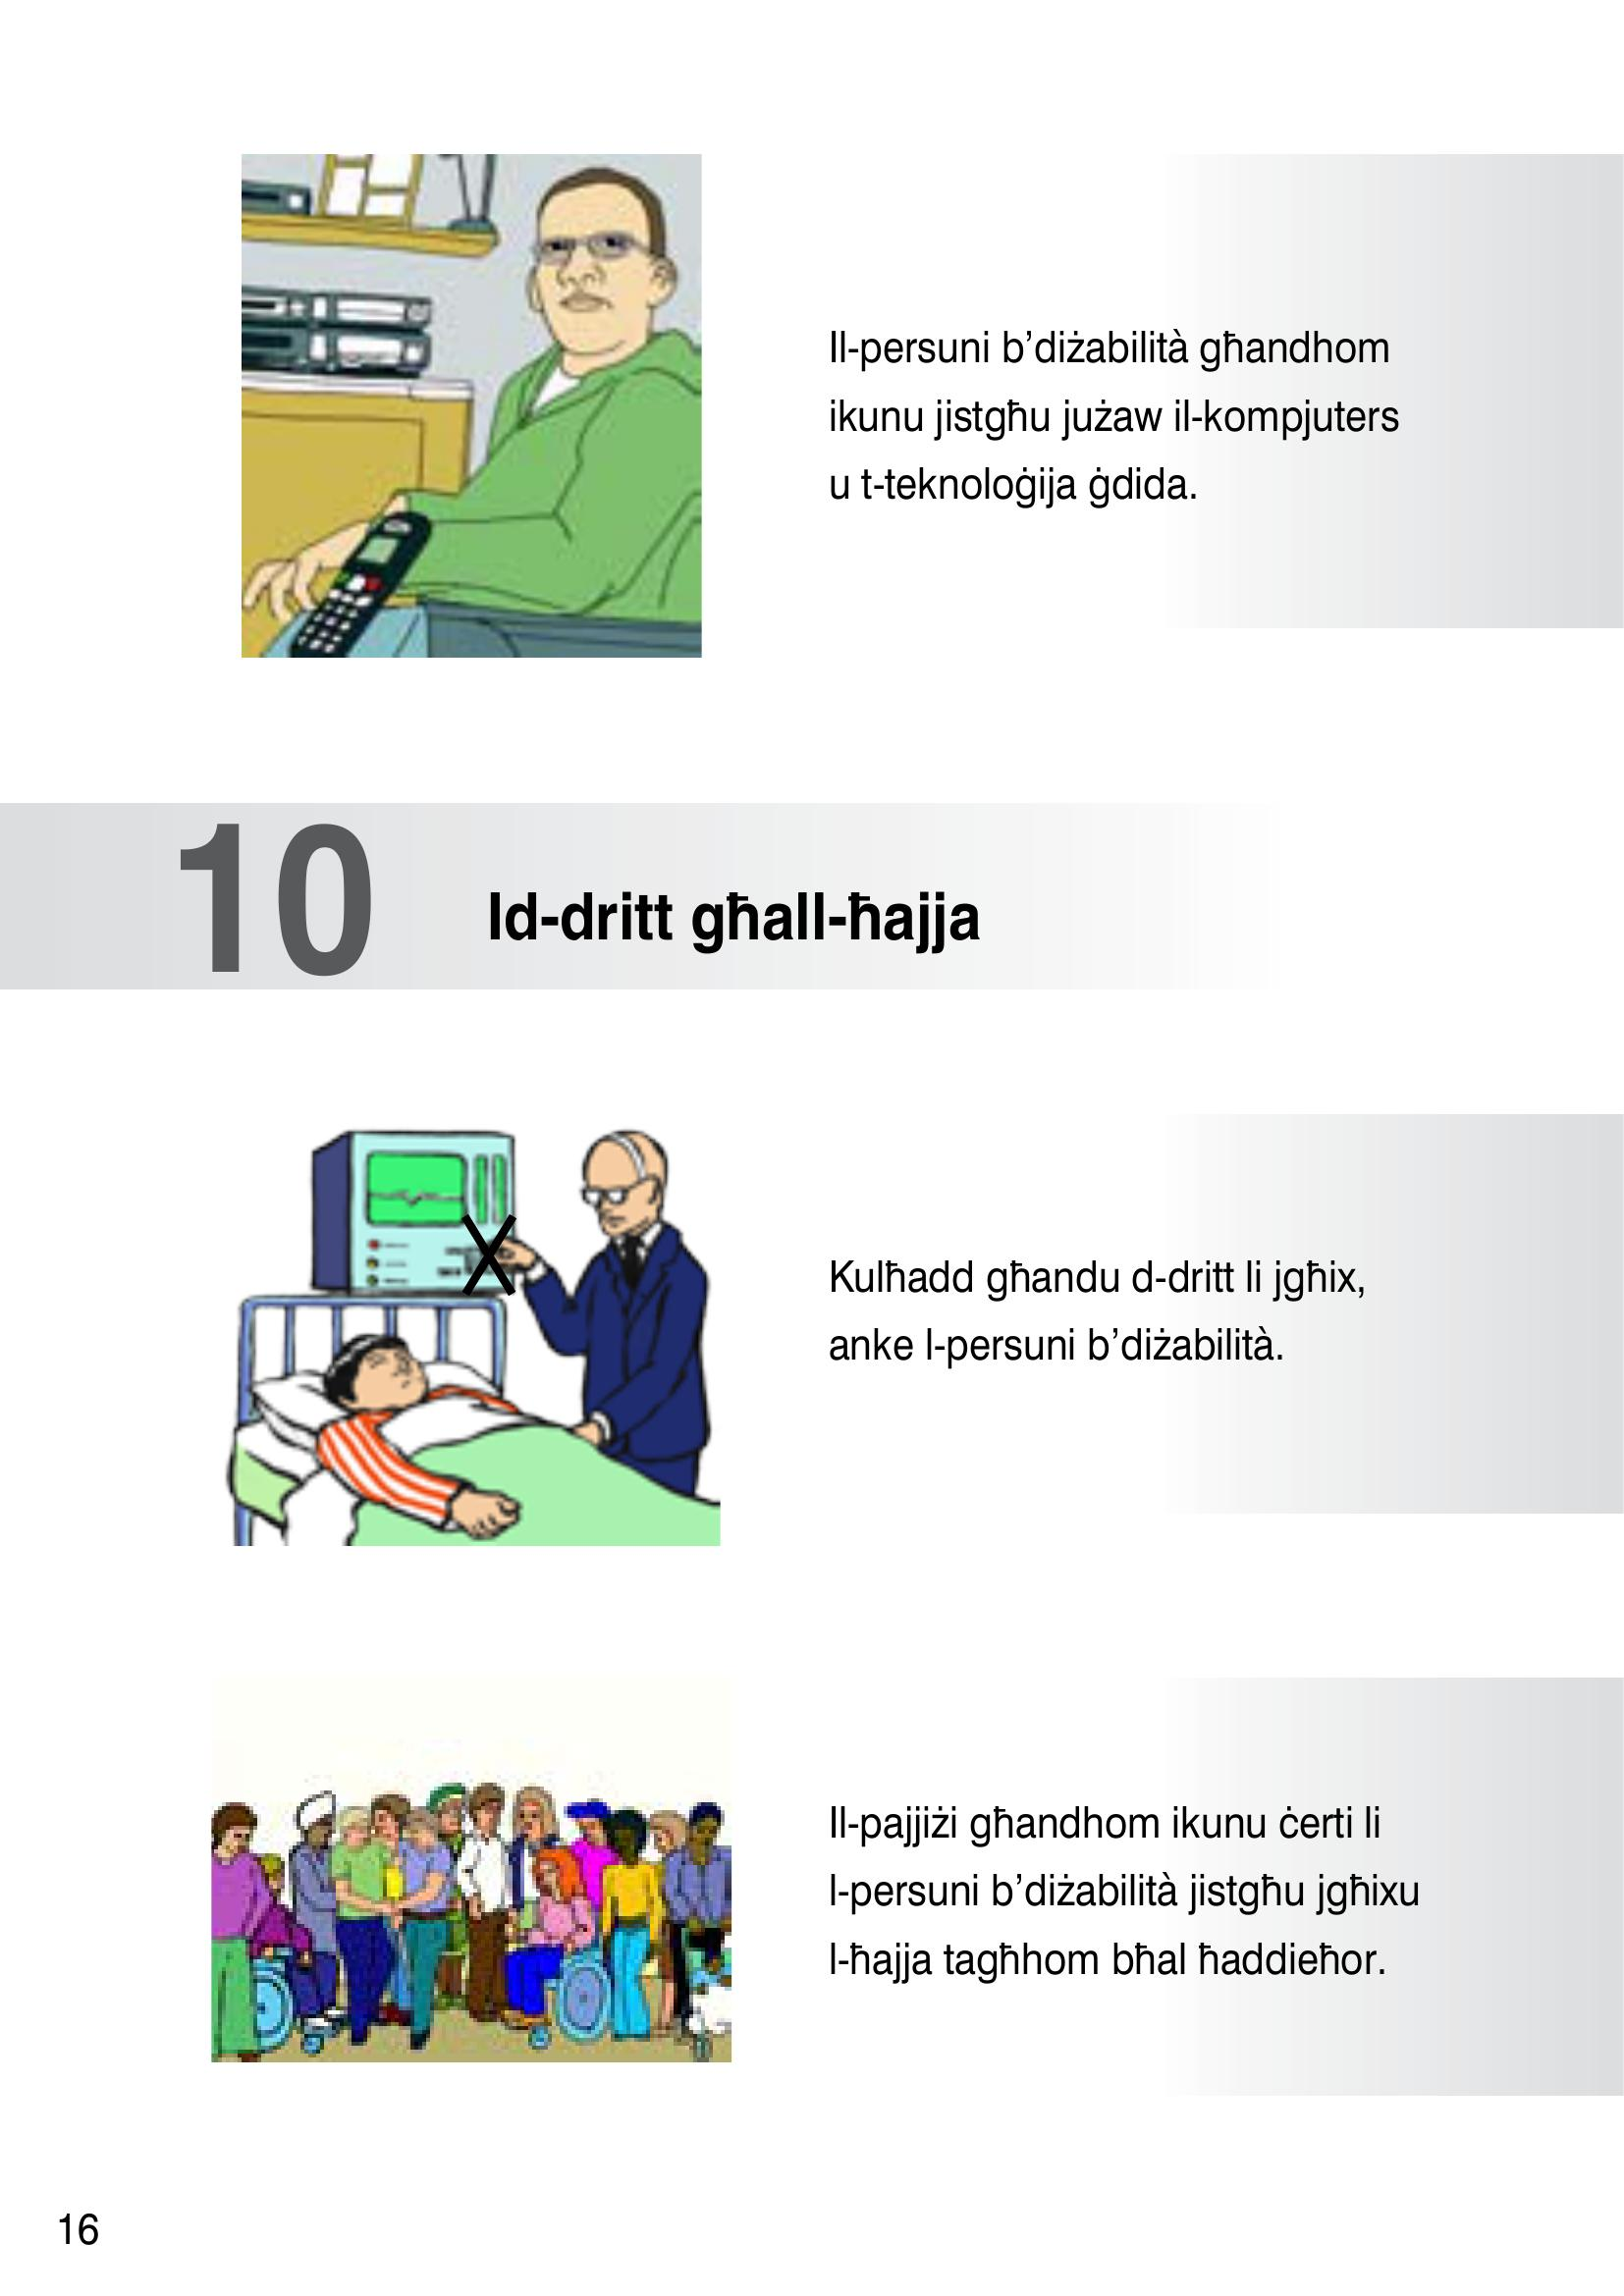text: (796, 1207, 1454, 2013), (810, 304, 1411, 552), (153, 815, 1026, 982)
